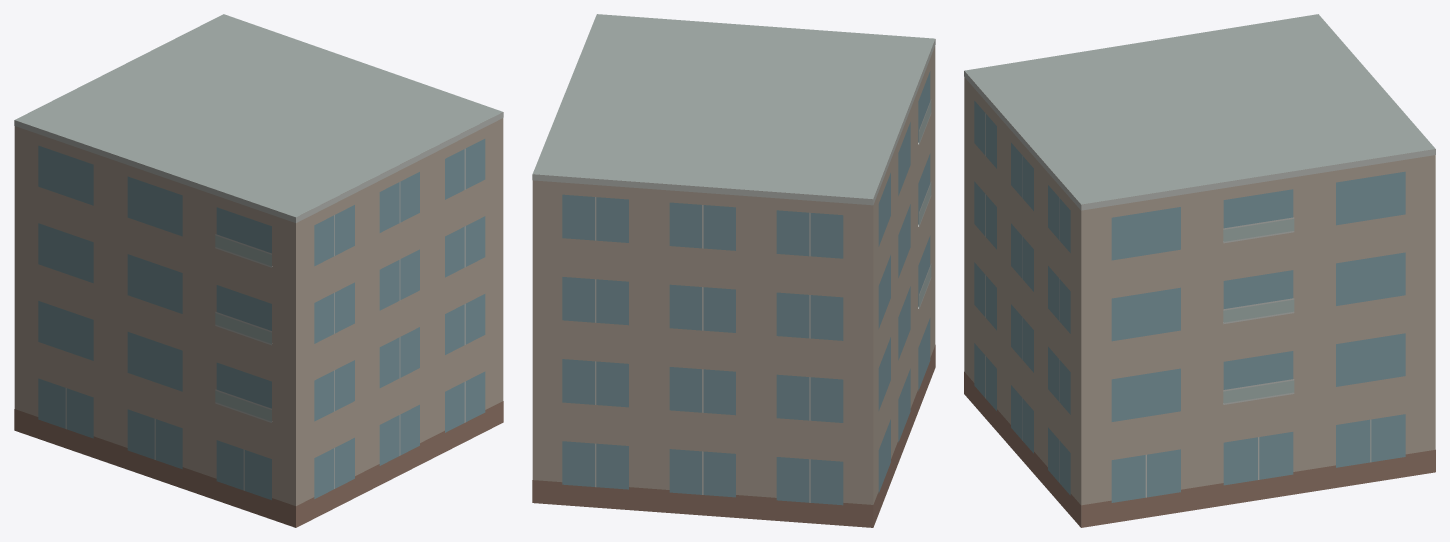
Rendered from survey-upis-33035807.glb.
3 renders of one model, left to right at view 1: azimuth 30°, elevation 25°; view 2: azimuth 150°, elevation 25°; view 3: azimuth 270°, elevation 25°, orthographic. The views are drawn at different scales.
Visible parts, largest first — view 1: survey-upis-33035807.tmp; view 2: survey-upis-33035807.tmp; view 3: survey-upis-33035807.tmp.
Boxes of the visible parts, bbox=[...] form: survey-upis-33035807.tmp: bbox=[14, 14, 503, 527]; survey-upis-33035807.tmp: bbox=[532, 14, 935, 527]; survey-upis-33035807.tmp: bbox=[964, 14, 1435, 527].
Size of the model in its own units: 16.51 by 13.05 by 17.26.
